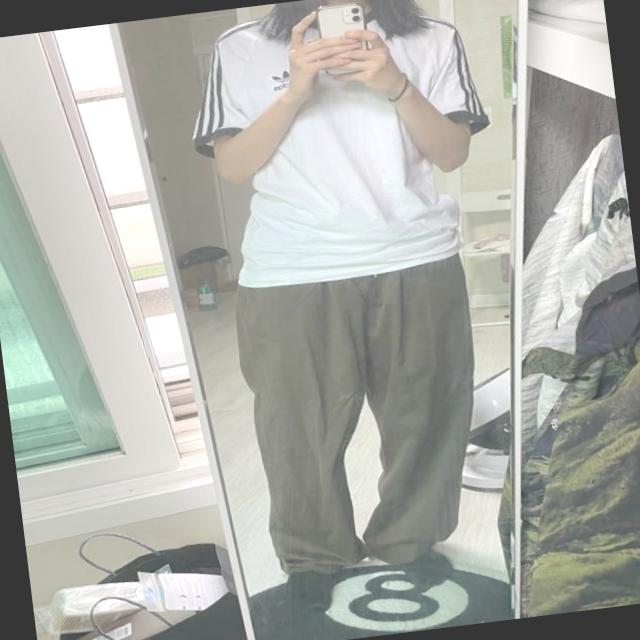cottonpants: (225, 247, 498, 582)
shortsleeve: (183, 0, 510, 294)
